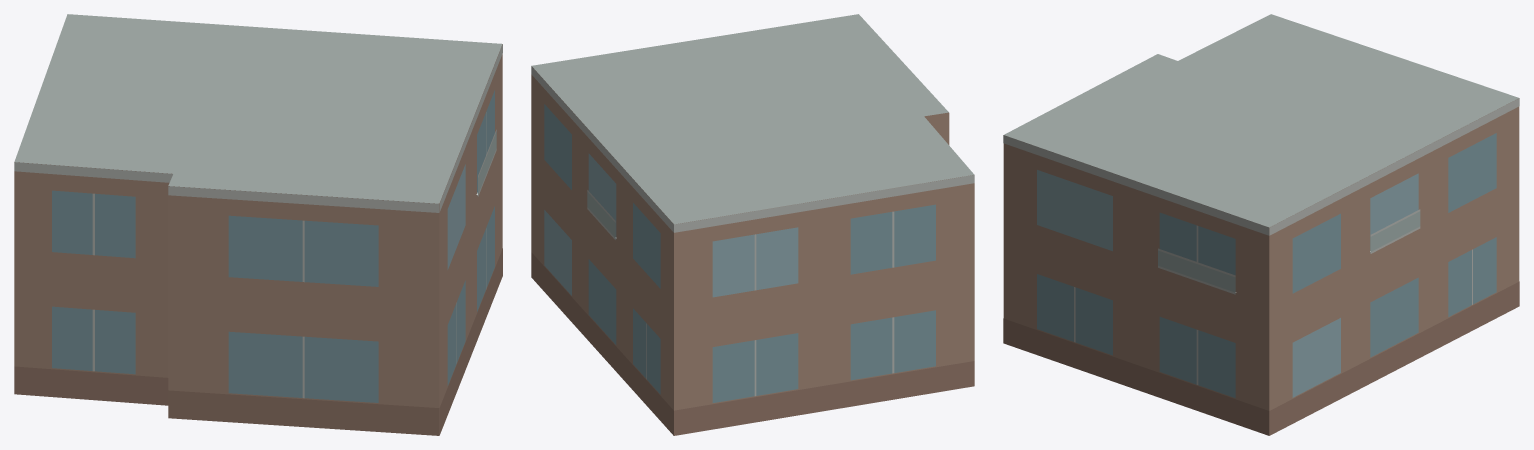
Rendered from survey-upis-32818165.glb.
3 renders of one model, left to right at view 1: azimuth 30°, elevation 25°; view 2: azimuth 150°, elevation 25°; view 3: azimuth 270°, elevation 25°, orthographic. The views are drawn at different scales.
Visible parts, largest first — view 1: survey-upis-32818165.tmp; view 2: survey-upis-32818165.tmp; view 3: survey-upis-32818165.tmp.
Part boxes in pixels (x1,y1,x2,y2): survey-upis-32818165.tmp: (14, 14, 502, 435); survey-upis-32818165.tmp: (531, 14, 974, 435); survey-upis-32818165.tmp: (1003, 14, 1519, 435).
Size of the model in its own units: 13.41 by 6.1 by 13.7.
